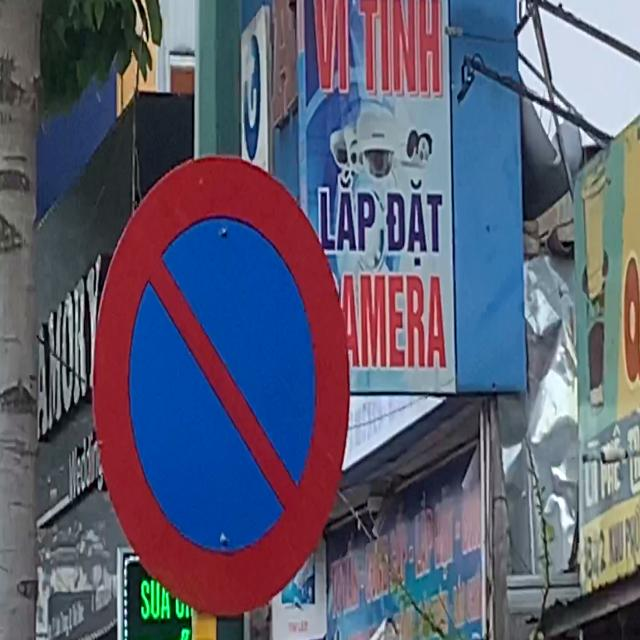Cam do: (87, 141, 360, 622)
